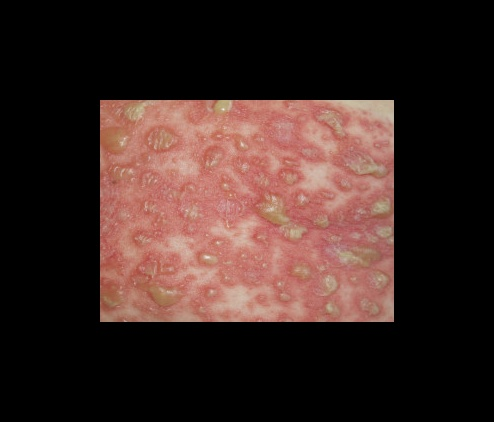SJS-TEN: (97, 99, 397, 326)
